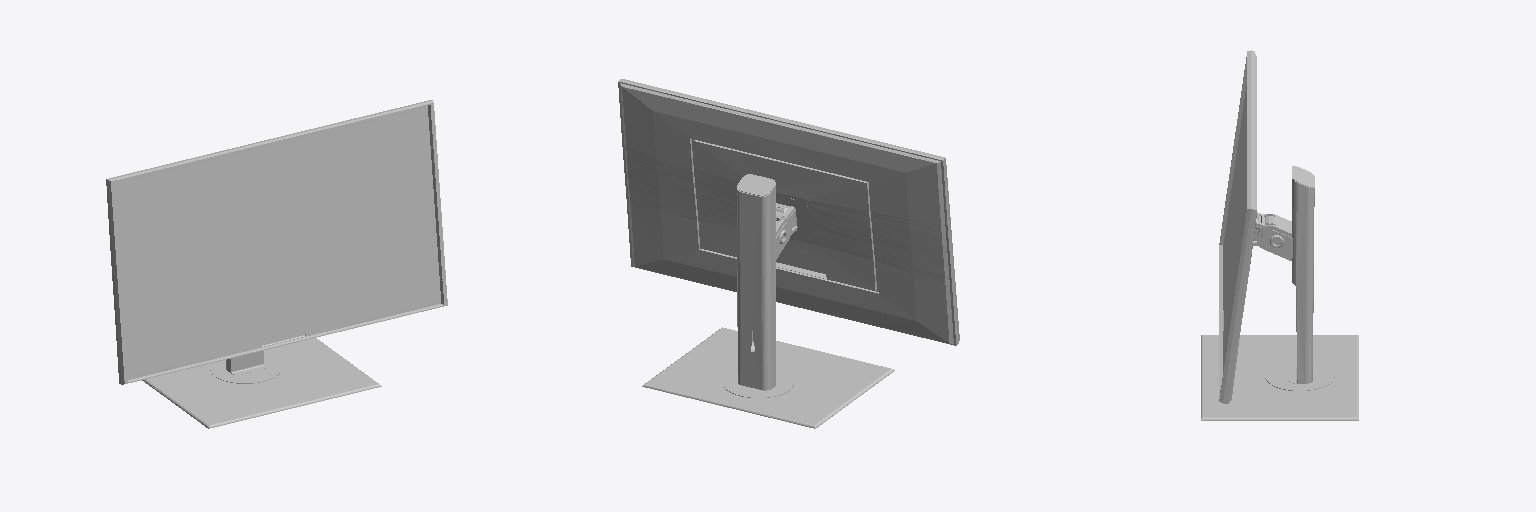
The model's file is monitor.obj.
3 views of the same model, side by side, from view 1: azimuth 30°, elevation 25°; view 2: azimuth 150°, elevation 25°; view 3: azimuth 270°, elevation 25° (orthographic).
Parts seen in each view (by area): view 1: pCube9, pCube1, pCube8; view 2: pCube9, pCube1, pCube8; view 3: pCube1, pCube9, pCube8.
Boxes of the visible parts, x1,y1,x2,y2 form: pCube9: [106, 100, 447, 384]; pCube1: [142, 338, 381, 428]; pCube8: [226, 351, 264, 374]; pCube9: [618, 79, 959, 345]; pCube1: [642, 327, 894, 428]; pCube8: [737, 174, 791, 390]; pCube1: [1201, 335, 1358, 420]; pCube9: [1219, 50, 1264, 403]; pCube8: [1257, 166, 1314, 383].
Size of the model in its own units: 27.3 by 20.27 by 11.53.